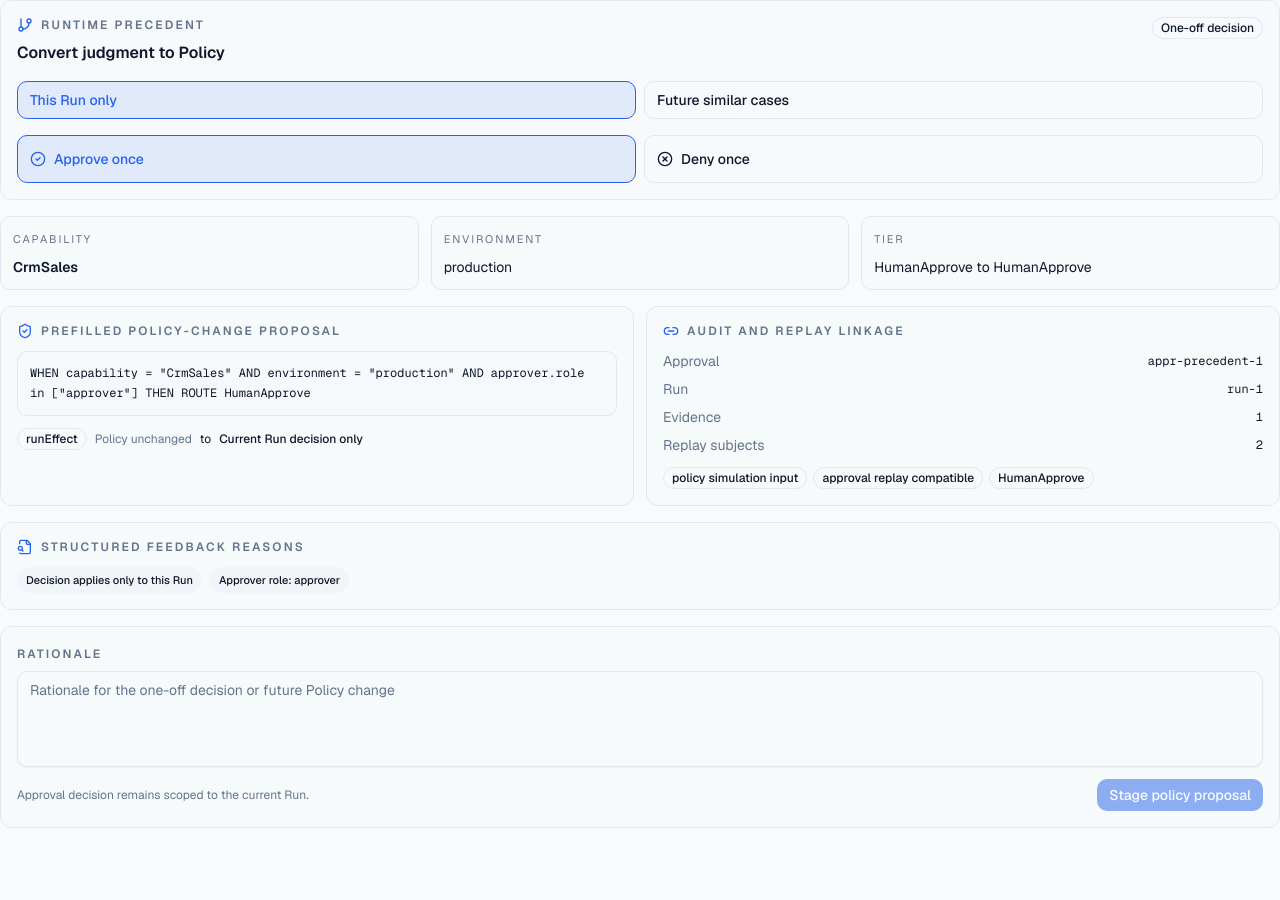
it: PolicyPrecedentMode › switches to future policy mutations with audit and replay context
The image size is (1280, 900).
What coordinates should you click on to do the following:
click the button "Future similar cases"
I would click on:
 (723, 100)
Its box is [644, 81, 1263, 119].
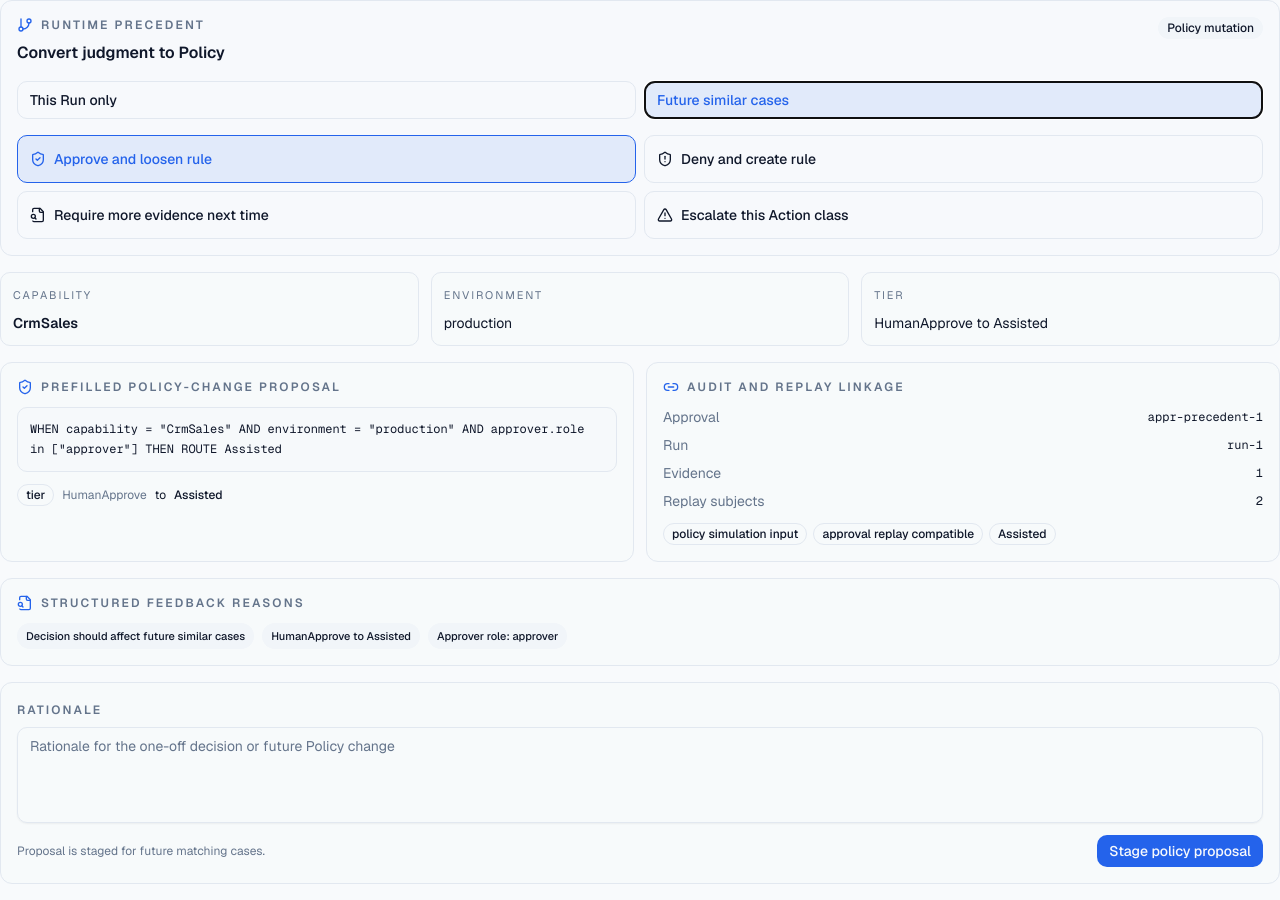
What coordinates should you click on to do the following:
click the button "Deny and create rule"
I would click on:
 (749, 159)
Its box is [644, 135, 1263, 183].
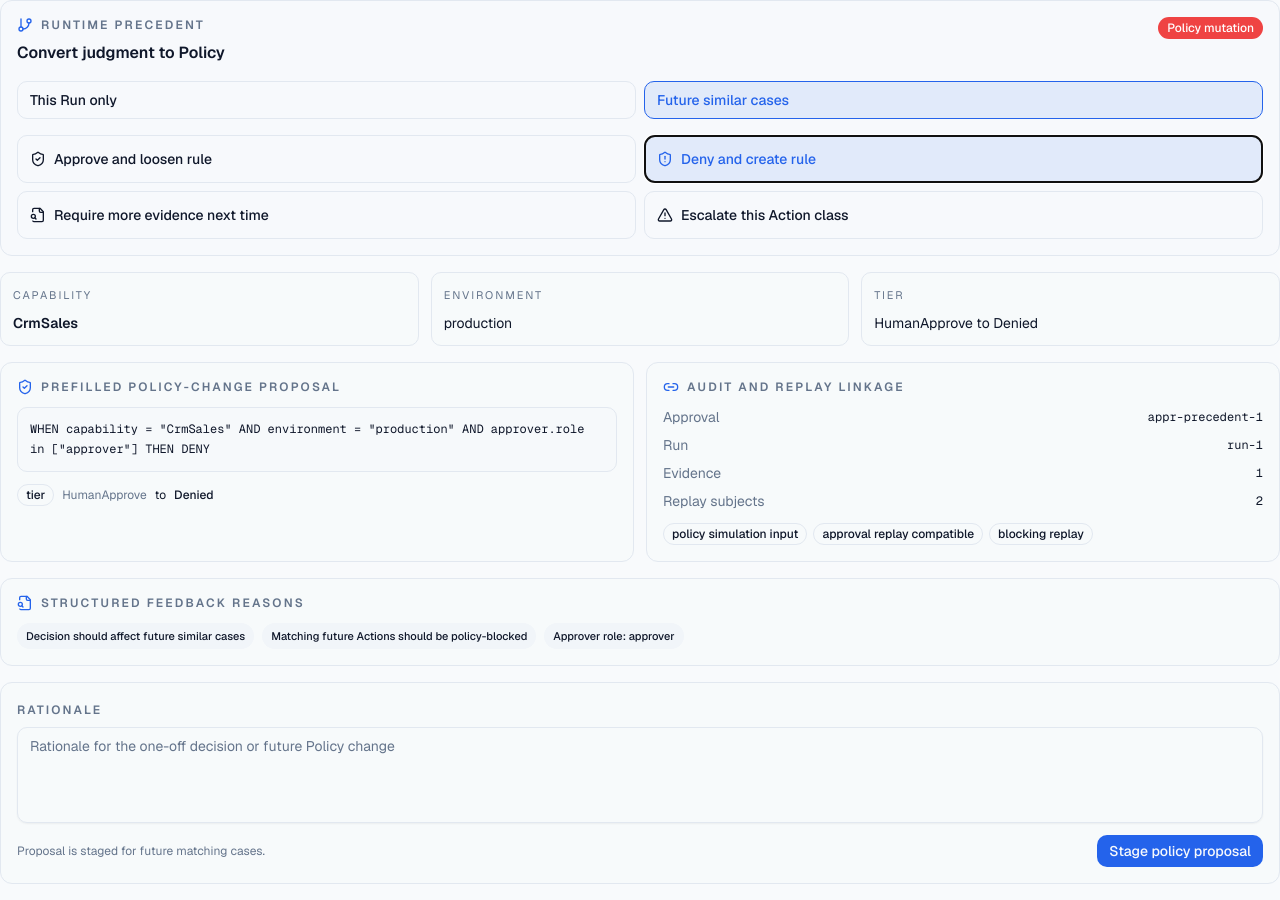
Result: the text "Policy mutation" is shown at [1158, 17, 1263, 39]
Result: the text "THEN DENY" is shown at [30, 421, 584, 456]
Result: the text "Matching future Actions should be policy-blocked" is shown at [262, 623, 536, 649]
